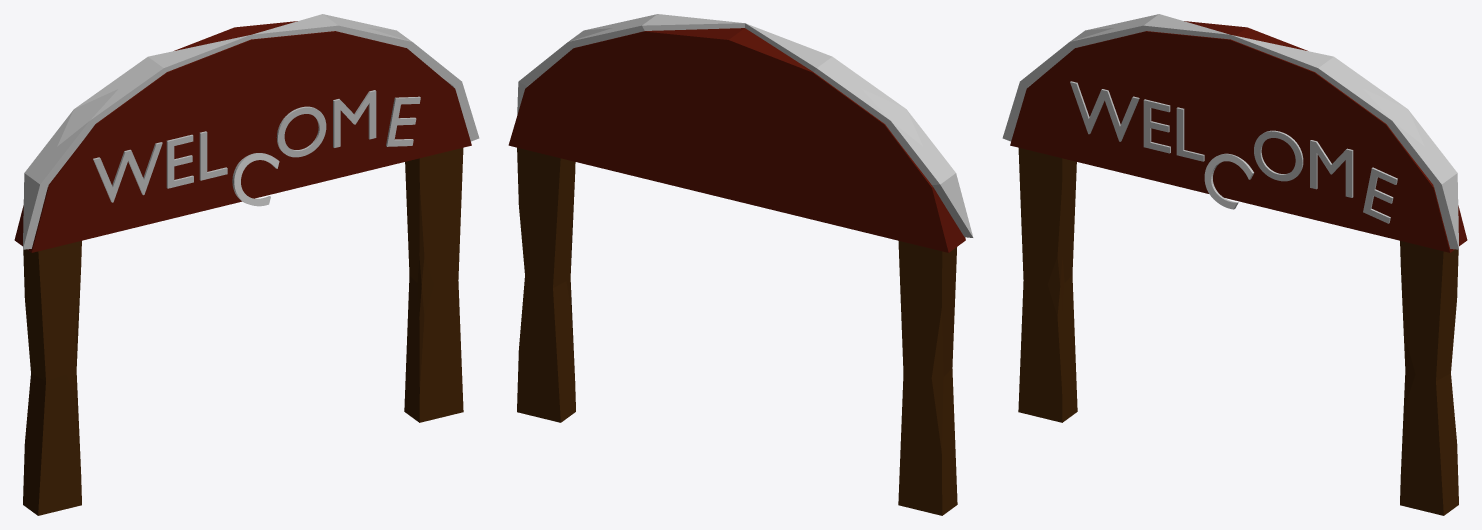
Rendered from Welcome_Sign.fbx.
3 views of the same model, side by side, from view 1: azimuth 30°, elevation 25°; view 2: azimuth 150°, elevation 25°; view 3: azimuth 330°, elevation 25° (orthographic).
Visible parts, largest first — view 1: Plane; view 2: Plane; view 3: Plane.
Boxes of the visible parts, box(x1,y1,x2,y2) form: Plane: box(14, 14, 479, 515); Plane: box(508, 14, 973, 515); Plane: box(1002, 14, 1467, 515).
Size of the model in its own units: 415 by 373 by 38.8.
